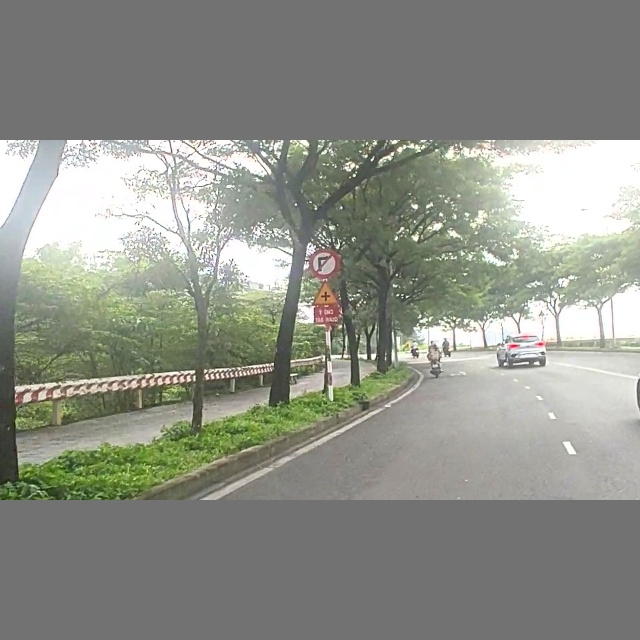P.123a: (307, 246, 338, 280)
W.205a: (309, 278, 344, 307)
